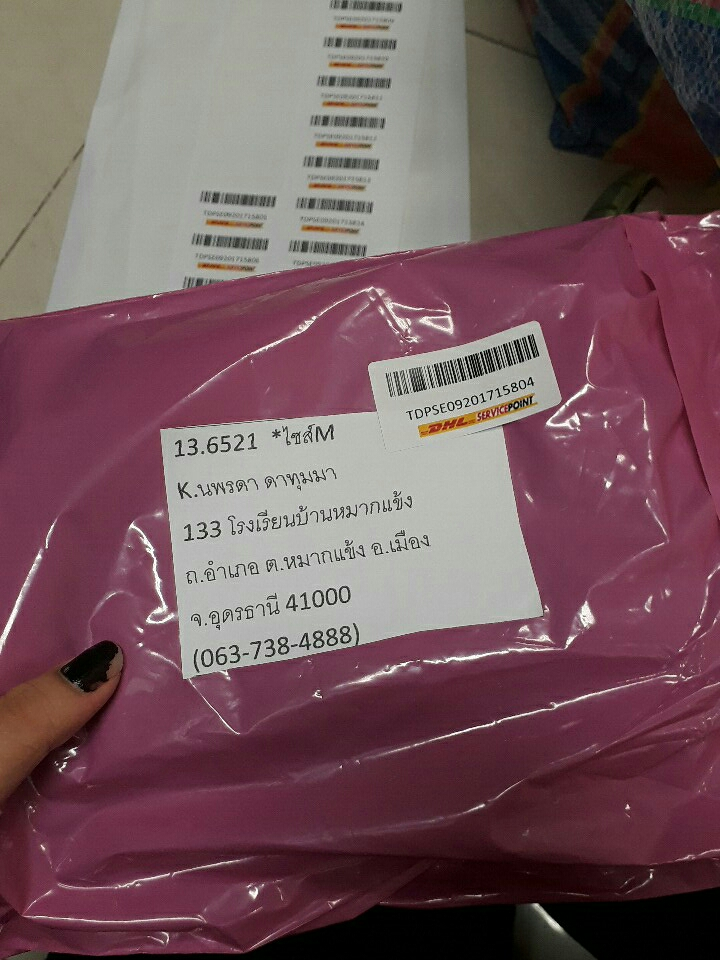ba: (364, 320, 568, 454)
txt: (172, 464, 450, 682)
